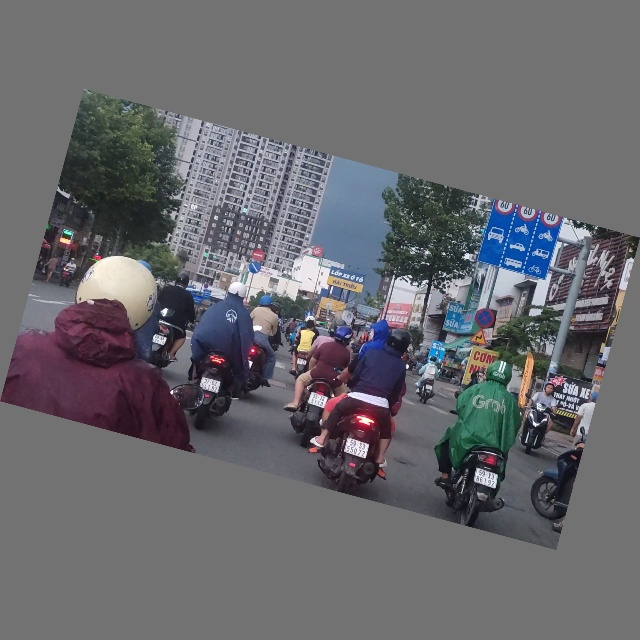I.434a: (364, 322, 372, 331)
P.102: (251, 248, 265, 264)
P.127*60: (515, 206, 539, 224), (539, 213, 562, 230), (493, 200, 515, 217)
P.130: (473, 306, 498, 331)
R.302a: (247, 261, 262, 276)
R.415a: (476, 214, 560, 281)
W.202b: (469, 326, 491, 347)
